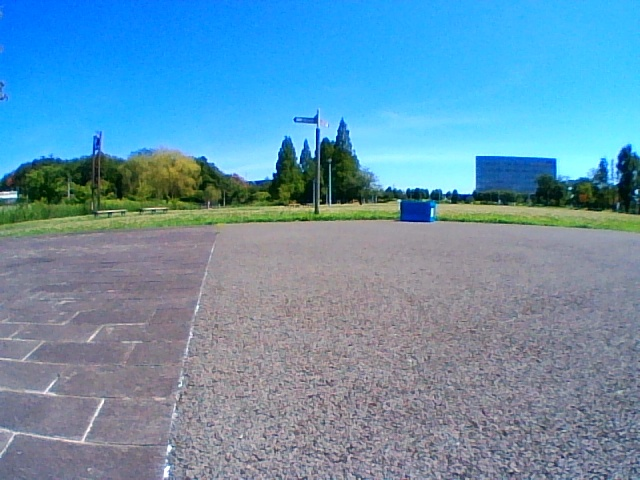blue_box: (400, 201, 435, 222)
tag: (430, 206, 433, 216)
